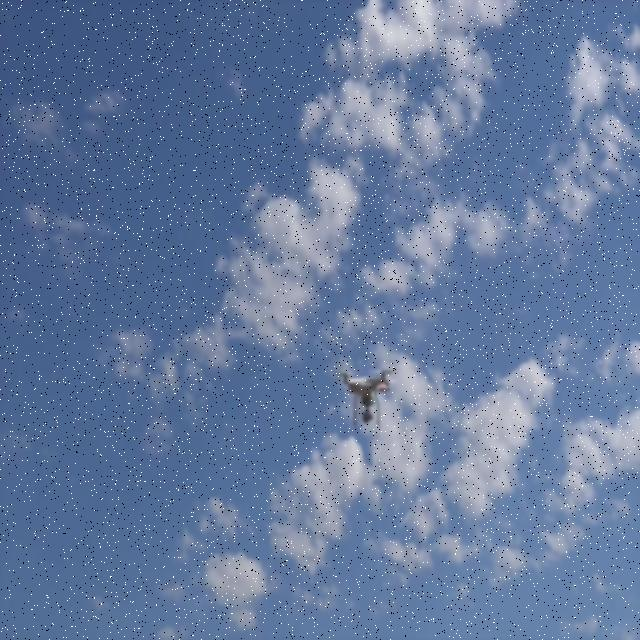UAV: (338, 369, 396, 429)
